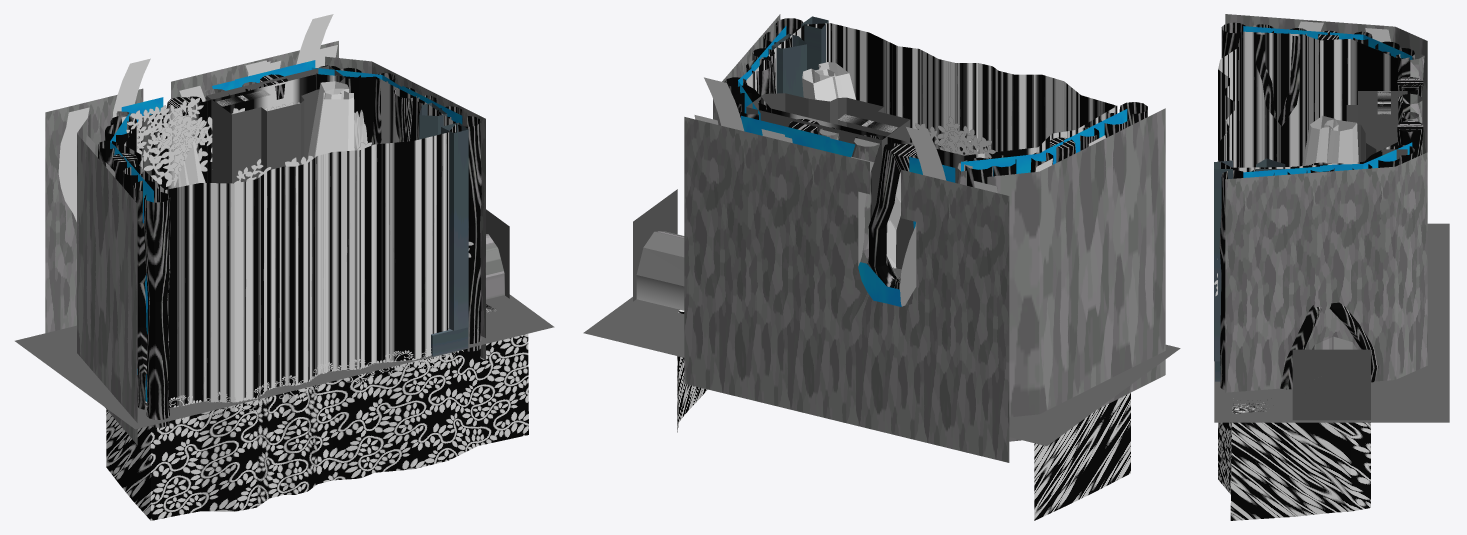
File: mri_04.dae
3 renders of one model, left to right at view 1: azimuth 30°, elevation 25°; view 2: azimuth 150°, elevation 25°; view 3: azimuth 270°, elevation 25°, orthographic. The views are drawn at different scales.
Parts seen in each view (by area): view 1: A_kabe_01_part0, polySurface471_q00034, polySurface470_q00033, S_okuA_l, S_okuA_02, polySurface472_q00035, A_yuka, pCube1_q00000, S_okuD_l_02, S_okuD_r_01, pCube80_q00016, S_okuB_10_part0 (+15 smaller); view 2: S_okuA_02, S_okuA_l, A_kabe_01_part0, A_yuka, polySurface470_q00033, pCube1_q00000, S_okuB_10_part0, S_okuD_06, S_okuA_r_part0, S_okuD_r_01, pPlane162, S_okuC_07_part0 (+13 smaller); view 3: S_okuA_r_part1, A_kabe_01_part0, polySurface472_q00035, A_yuka, pPlane162, S_okuD_r_01, pCube1_q00000, S_okuD_l_02, S_okuA_l, pCube80_q00016, polySurface454_q00021, S_okuD_06 (+9 smaller).
Part boxes in pixels (x1,y1,x2,y2): A_kabe_01_part0: (124,74,456,407); polySurface471_q00034: (284,354,447,494); polySurface470_q00033: (106,393,283,520); S_okuA_l: (77,114,137,444); S_okuA_02: (45,41,338,333); polySurface472_q00035: (448,333,528,460); A_yuka: (15,294,554,429); pCube1_q00000: (206,65,345,183); S_okuD_l_02: (105,116,170,427); S_okuD_r_01: (316,65,481,351); pCube80_q00016: (441,122,468,330); S_okuB_10_part0: (58,14,333,221); S_okuA_02: (684,117,1009,462); S_okuA_l: (987,108,1165,441); A_kabe_01_part0: (743,23,1117,279); A_yuka: (583,297,1180,446); polySurface470_q00033: (1034,392,1130,520); pCube1_q00000: (746,93,910,269); S_okuB_10_part0: (704,77,997,306); S_okuD_06: (788,119,918,289); S_okuA_r_part0: (636,231,684,310); S_okuD_r_01: (724,18,804,119); pPlane162: (633,189,677,301); S_okuC_07_part0: (826,137,955,306); S_okuA_r_part1: (1225,152,1427,392); A_kabe_01_part0: (1218,31,1397,172); polySurface472_q00035: (1218,422,1370,520); A_yuka: (1214,223,1449,422); pPlane162: (1292,349,1370,420); S_okuD_r_01: (1219,145,1414,390); pCube1_q00000: (1346,91,1407,163); S_okuD_l_02: (1221,22,1409,126); S_okuA_l: (1225,14,1427,153); pCube80_q00016: (1214,160,1232,361); polySurface454_q00021: (1324,119,1358,163); S_okuD_06: (1397,76,1423,157).
Bounding box in the file's own units: 60 × 49.69 × 31.
